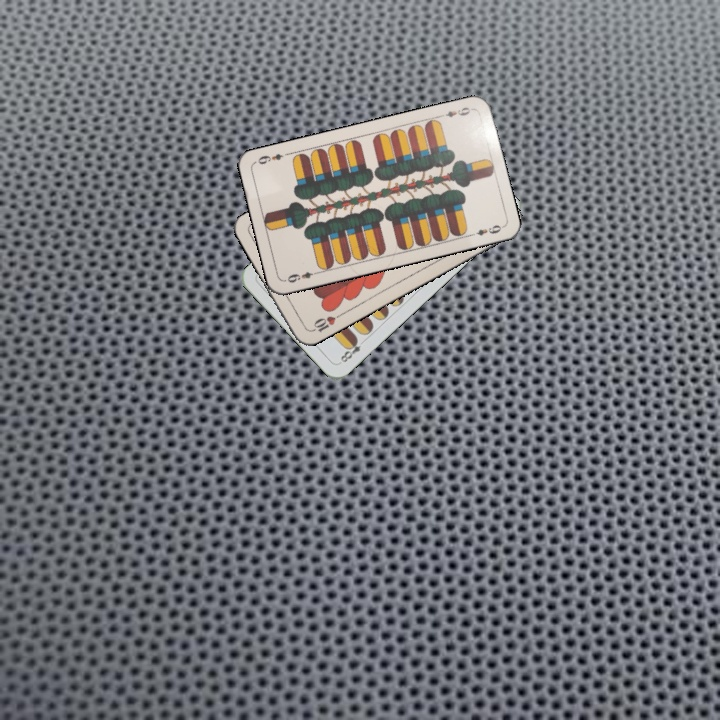E8: (335, 334, 364, 366)
E9: (281, 267, 321, 285), (435, 103, 475, 120)
H10: (306, 310, 343, 335)
